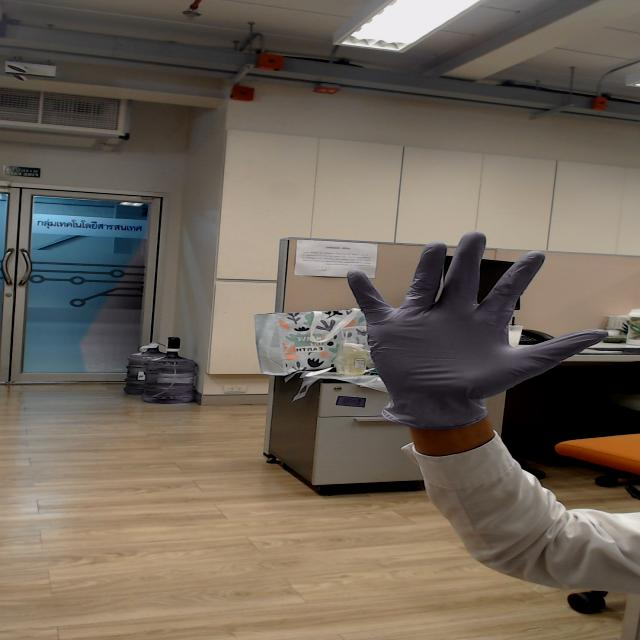glove: (321, 222, 621, 386)
